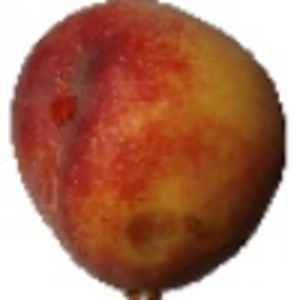pêssego: (9, 1, 288, 300)
